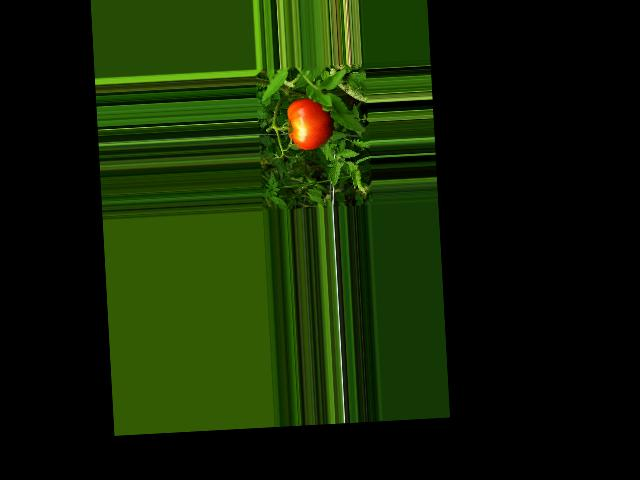tomato: (285, 97, 334, 150)
